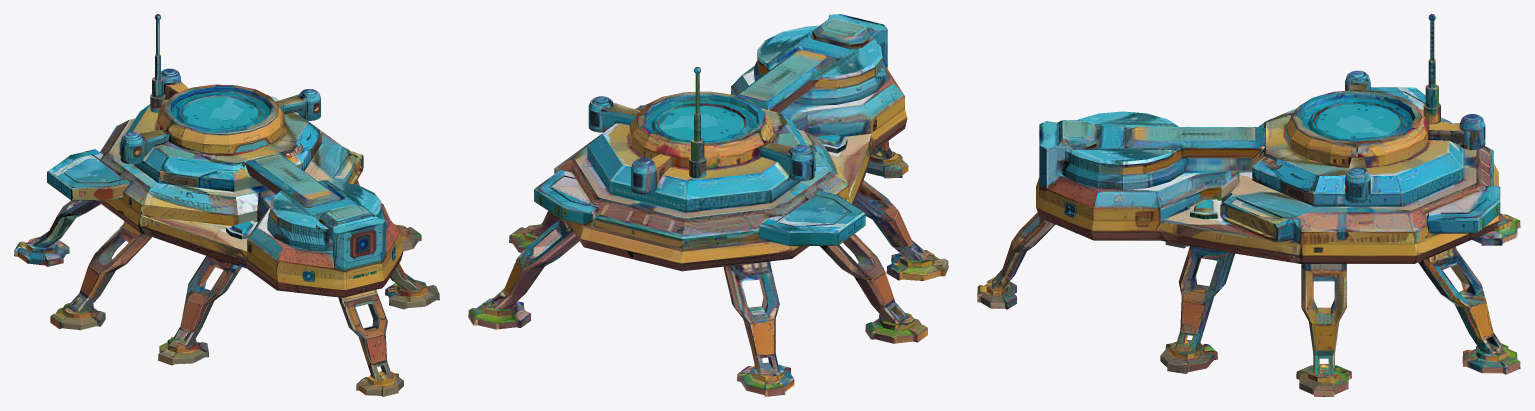
File: cosmodrome_1208050643.obj
3 views of the same model, side by side, from view 1: azimuth 30°, elevation 25°; view 2: azimuth 150°, elevation 25°; view 3: azimuth 270°, elevation 25° (orthographic). The views are drawn at different scales.
Visible parts, largest first — view 1: Mesh_0; view 2: Mesh_0; view 3: Mesh_0.
Boxes of the visible parts, x1=… form: Mesh_0: x1=14, y1=14, x2=439, y2=396; Mesh_0: x1=468, y1=14, x2=948, y2=396; Mesh_0: x1=977, y1=14, x2=1520, y2=396.
Bounding box in the file's own units: 0.8619 × 0.5435 × 1.
Materials: 1 (1 with a texture image).
